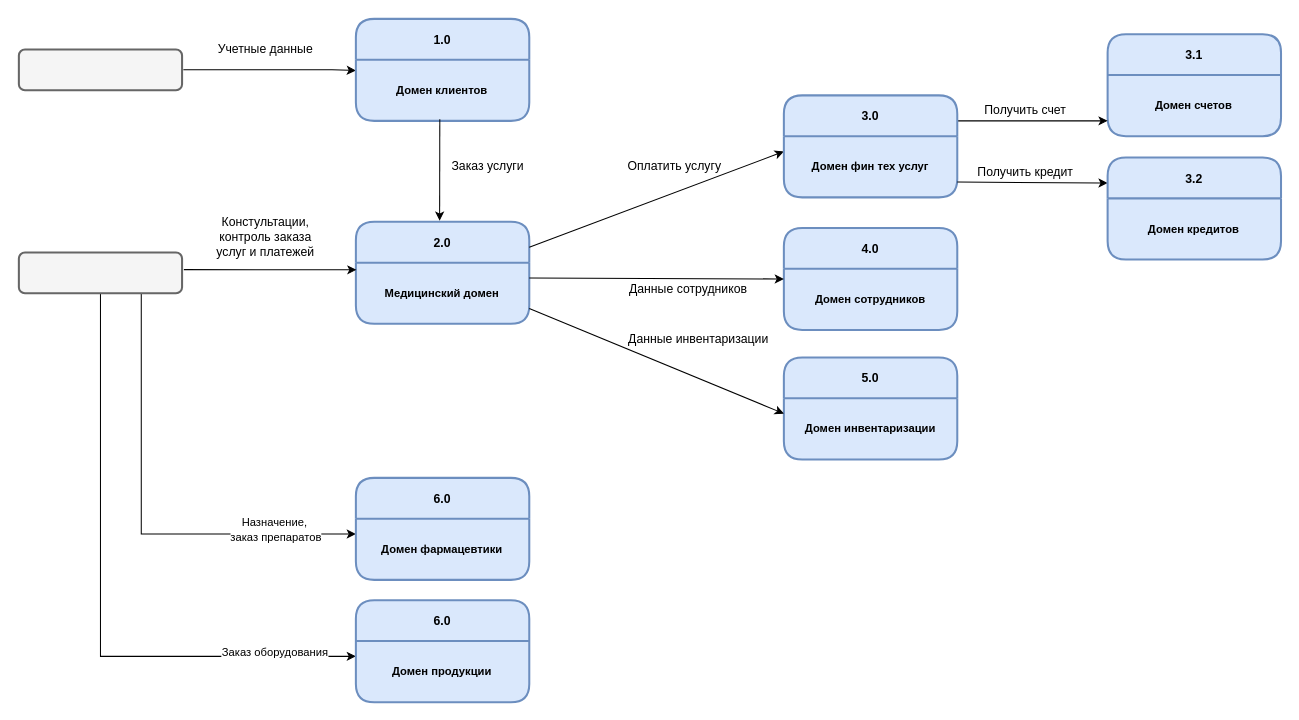
Image size: 1299x720. Some labels were removed from this diagram. The centre of each missing label's shape, as x and y in pixels:
"Клиент" belongs at (x=100, y=69).
"Медицинский сотрудник" belongs at (x=100, y=272).
